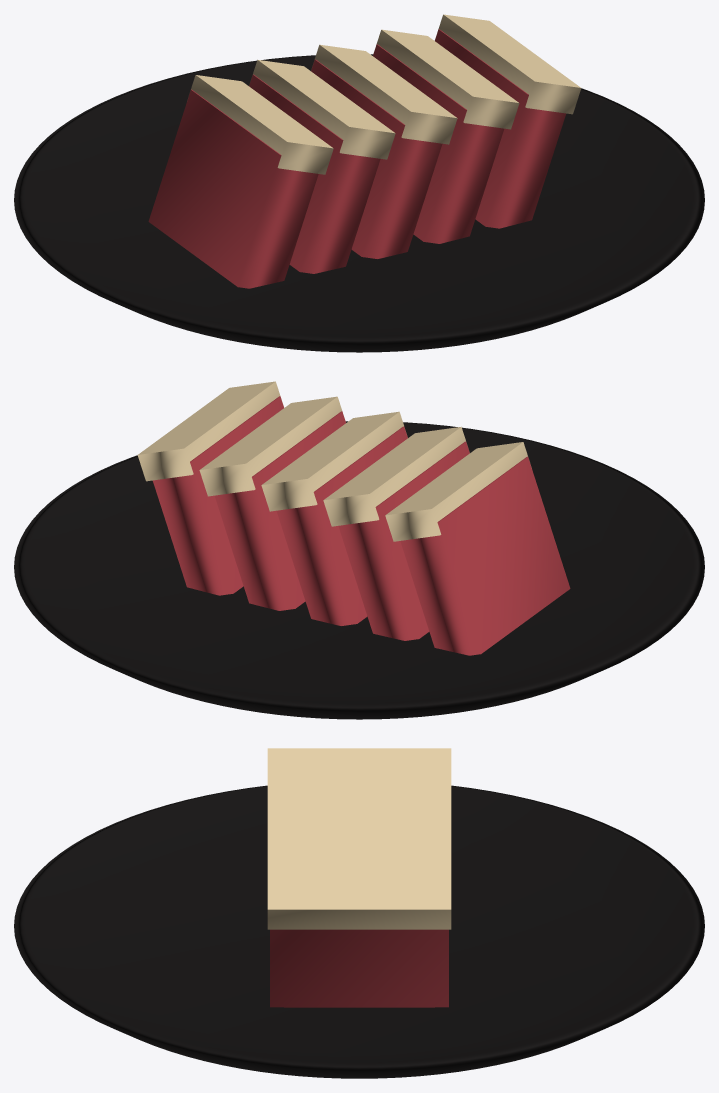
Rendered from picanha-wagyu.glb.
3 renders of one model, top to bottom at view 1: azimuth 30°, elevation 25°; view 2: azimuth 150°, elevation 25°; view 3: azimuth 270°, elevation 25°, orthographic.
Visible parts, largest first — view 1: blackPlate, meat, fatCap; view 2: blackPlate, meat, fatCap; view 3: blackPlate, fatCap, meat.
Part boxes in pixels (x1,y1,x2,y2): blackPlate: [14, 54, 704, 352]; meat: [148, 29, 565, 288]; fatCap: [191, 14, 581, 174]; blackPlate: [14, 421, 704, 719]; meat: [153, 396, 570, 655]; fatCap: [137, 381, 527, 541]; blackPlate: [14, 785, 704, 1078]; fatCap: [267, 748, 451, 929]; meat: [270, 929, 448, 1007].
Bounding box in the file's own units: 0.29 × 0.0778 × 0.29.
